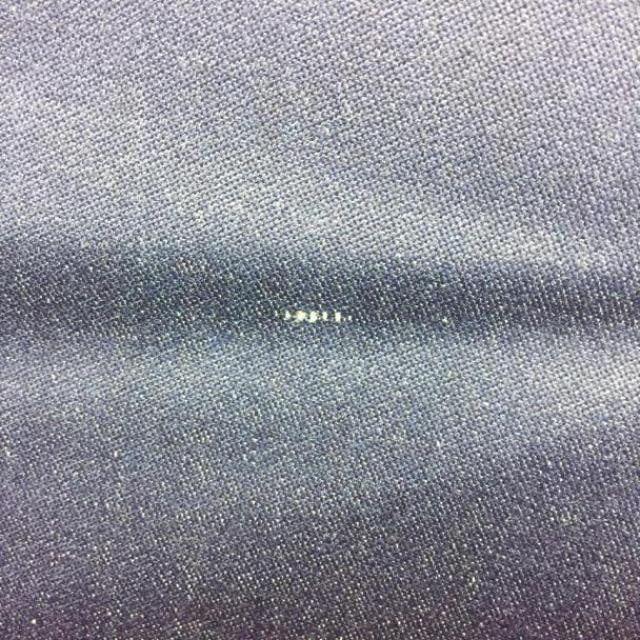Knot: (275, 311, 353, 325)
